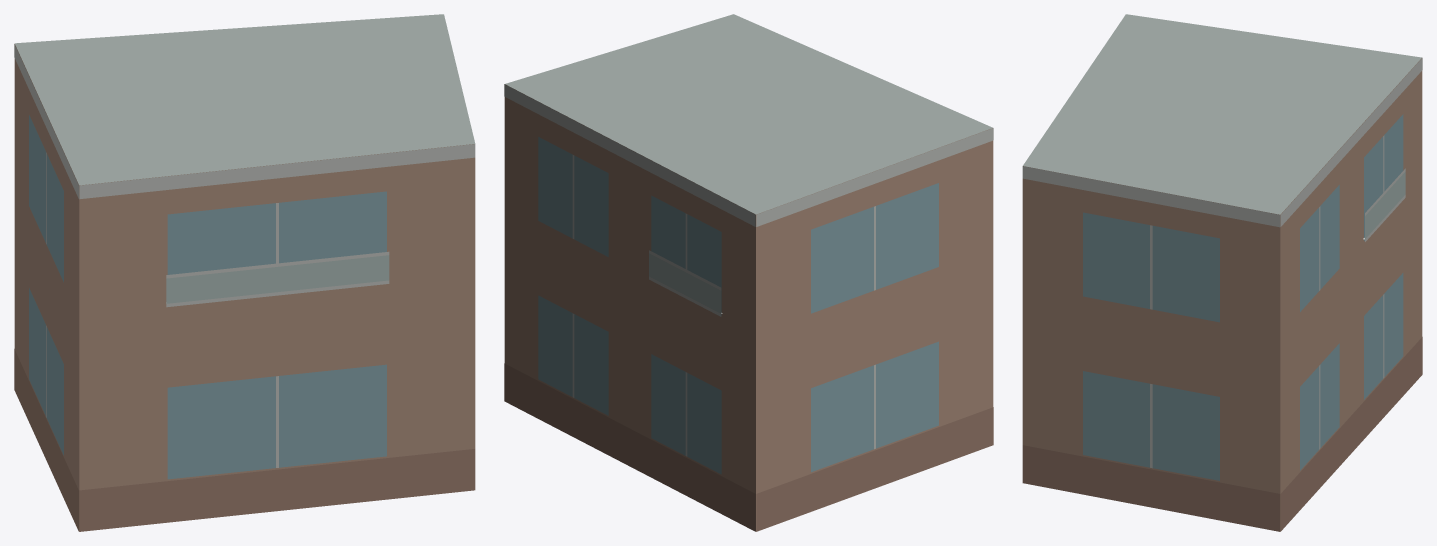
File: survey-upis-32972933.glb
The picture shows the model from 3 angles, left to right: view 1: azimuth 30°, elevation 25°; view 2: azimuth 150°, elevation 25°; view 3: azimuth 270°, elevation 25°; orthographic projection. The views are drawn at different scales.
Parts seen in each view (by area): view 1: survey-upis-32972933.tmp; view 2: survey-upis-32972933.tmp; view 3: survey-upis-32972933.tmp.
Boxes of the visible parts, x1,y1,x2,y2 form: survey-upis-32972933.tmp: [14, 14, 475, 531]; survey-upis-32972933.tmp: [504, 14, 993, 531]; survey-upis-32972933.tmp: [1022, 14, 1422, 531].
Bounding box in the file's own units: 8.29 × 6.1 × 6.98.
